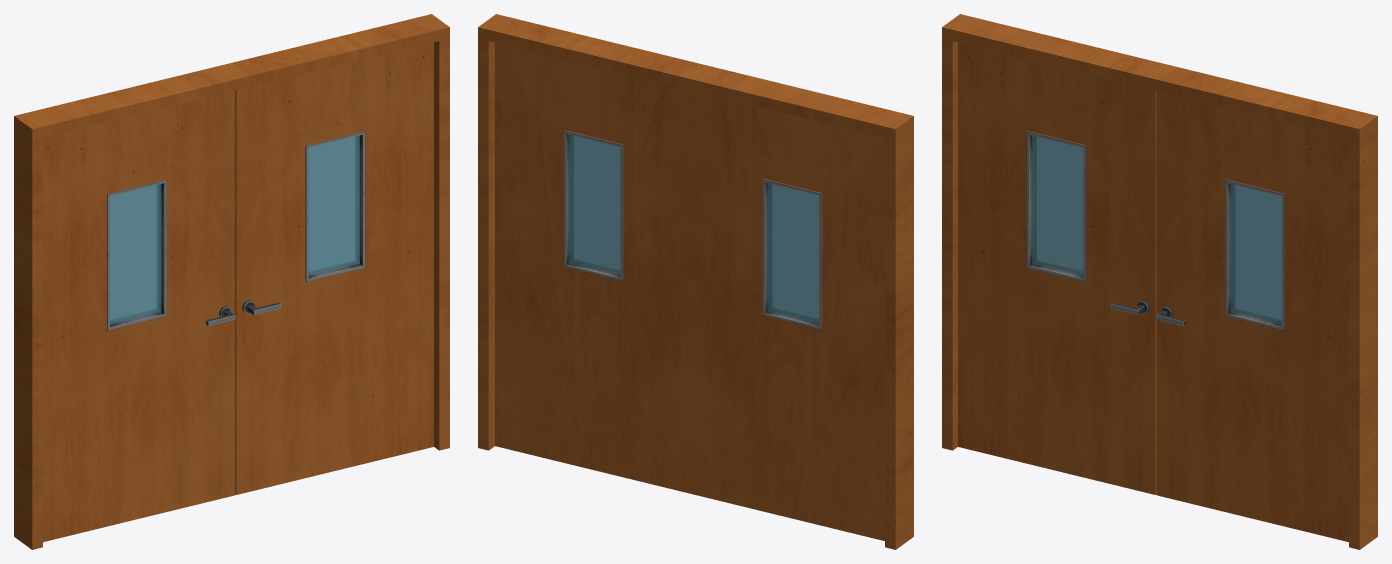
The model's file is DoubleDoor.fbx.
The picture shows the model from 3 angles, left to right: view 1: azimuth 30°, elevation 25°; view 2: azimuth 150°, elevation 25°; view 3: azimuth 330°, elevation 25°; orthographic projection.
Visible parts, largest first — view 1: DoubleDoor; view 2: DoubleDoor; view 3: DoubleDoor.
Part boxes in pixels (box(x1,y1,x2,y2)): DoubleDoor: box(14, 14, 449, 549); DoubleDoor: box(478, 14, 913, 549); DoubleDoor: box(942, 14, 1377, 549).
Size of the model in its own units: 223 by 215 by 20.19.
